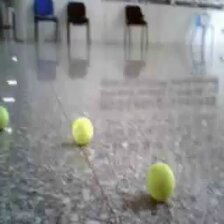tennis: (146, 161, 175, 201), (71, 116, 93, 144)
